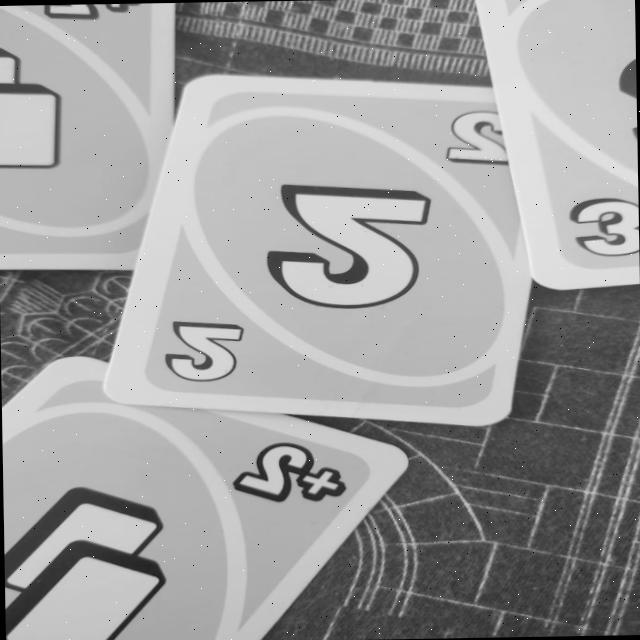card_2: (96, 66, 536, 432)
card_2-: (0, 348, 412, 640), (0, 2, 169, 267)
card_3: (459, 0, 639, 290)
